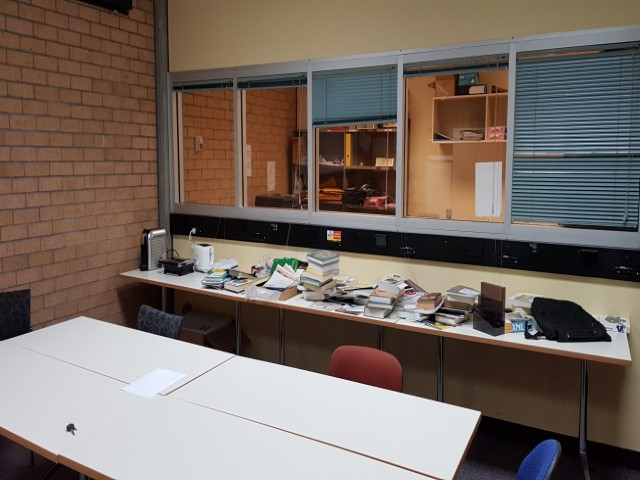key: (67, 424, 76, 436)
